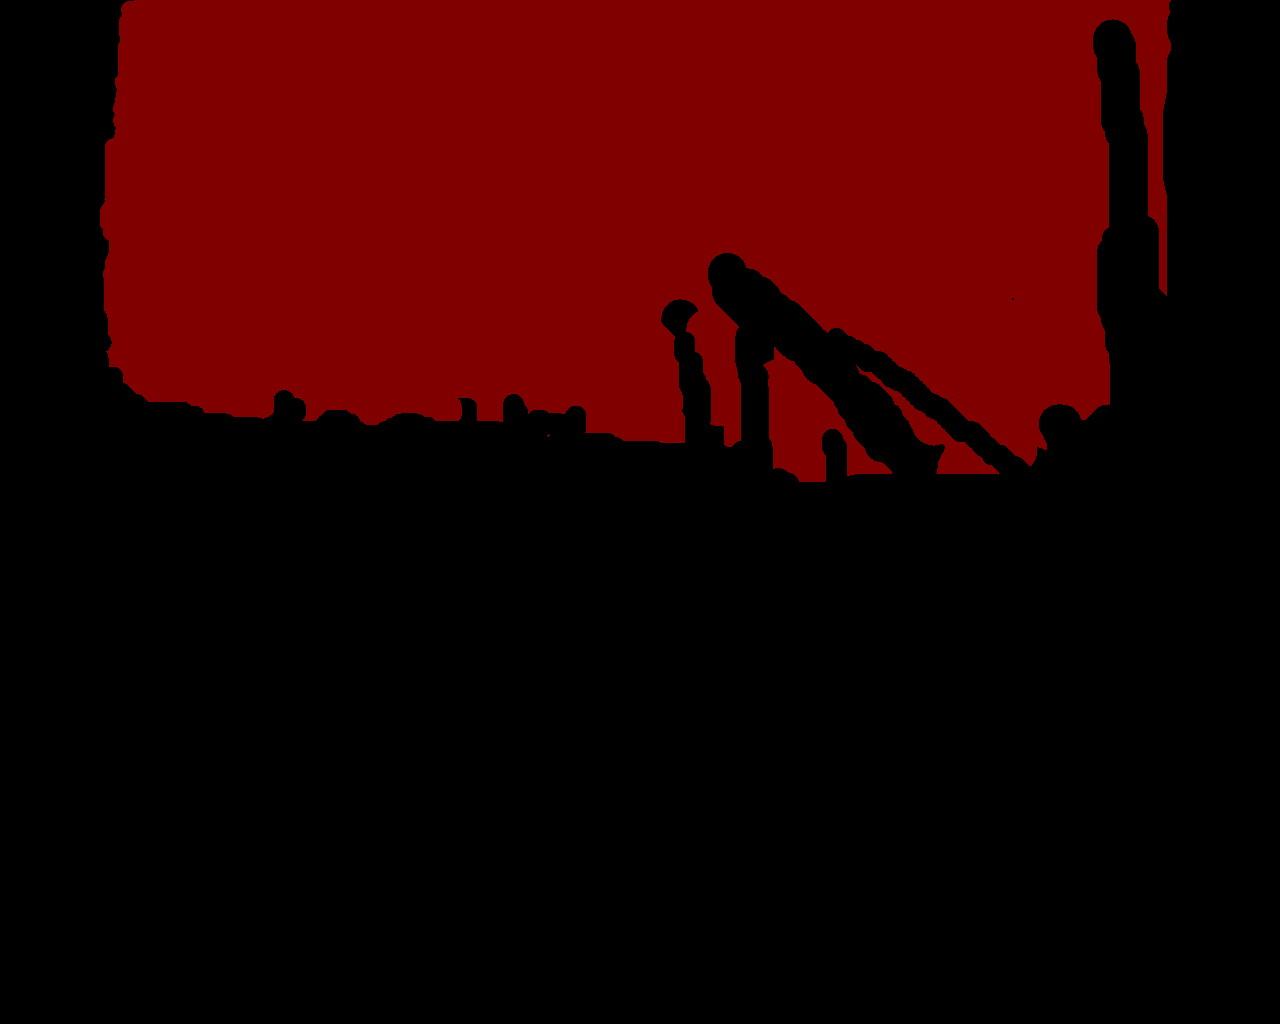Sky: (101, 1, 1170, 482)
